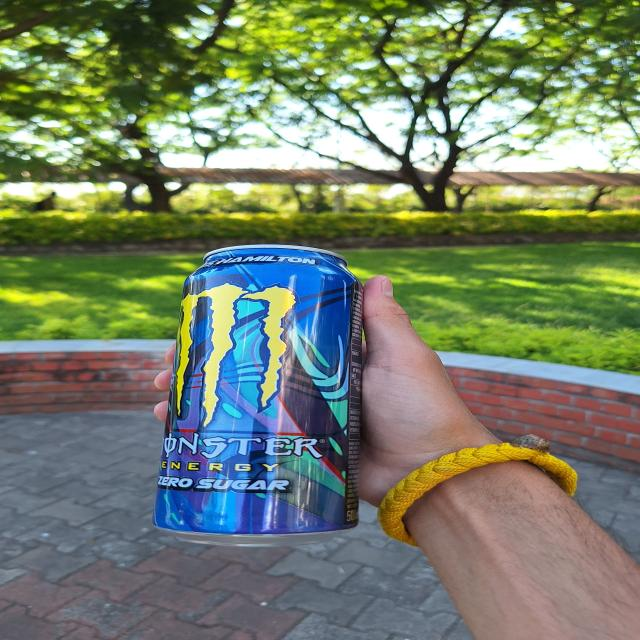Monster LH44: (153, 243, 377, 551)
